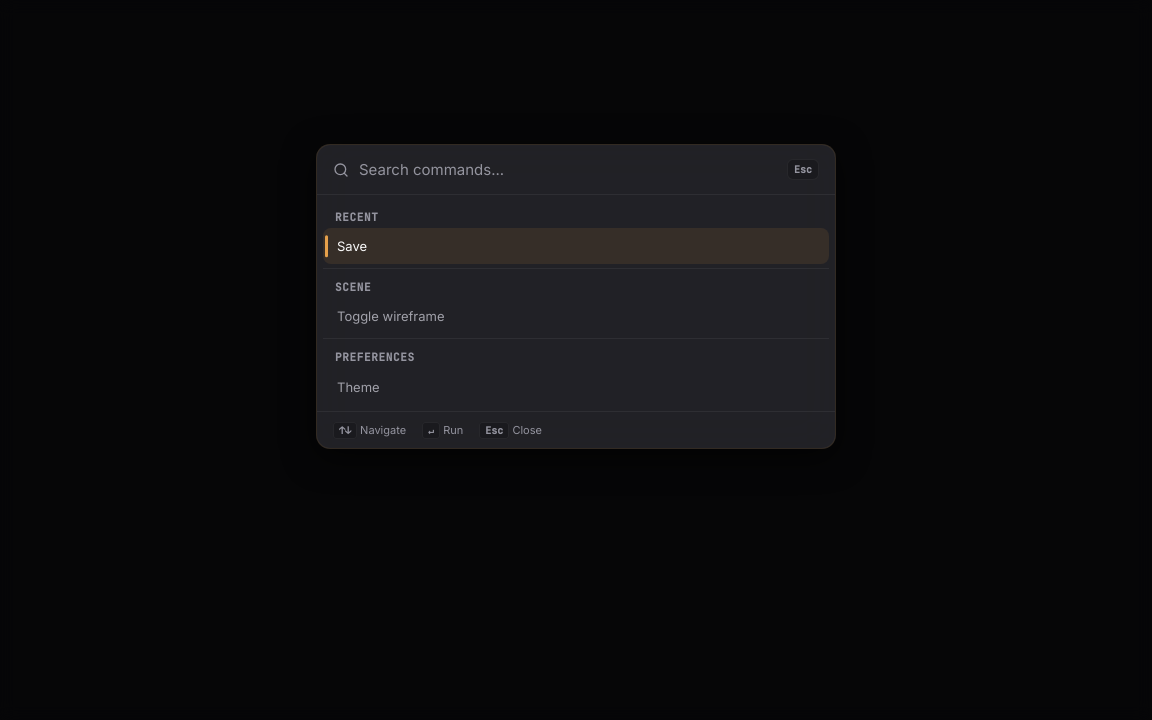
it: CommandPalette — recent commands › does not show recent commands section in search mode
In the field with placeholder "Search commands...": (568, 170) [359,160,777,179], type "save"
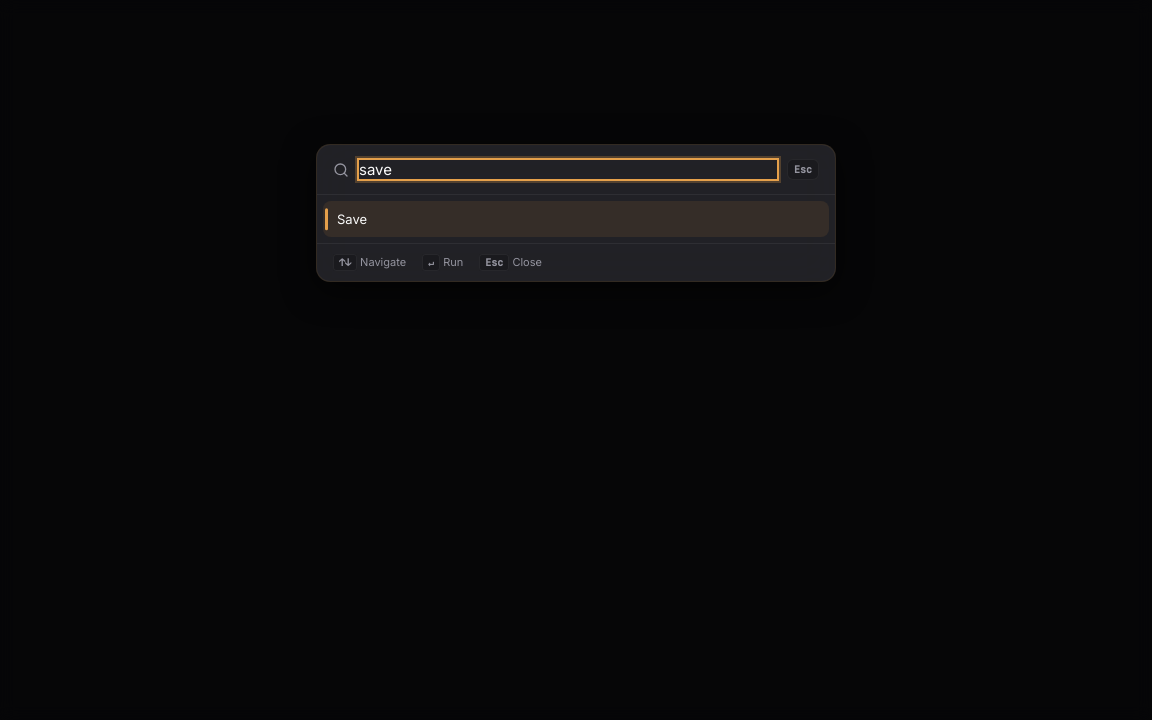
Expected: the text "Recent" is gone
